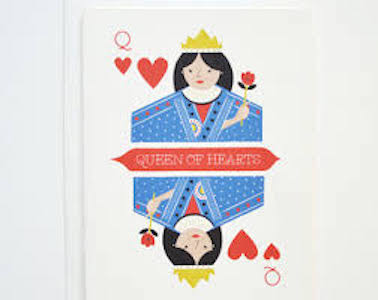QueenOfHearts: (77, 6, 304, 292)
